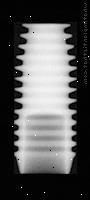Bicon: (13, 21, 78, 174)
